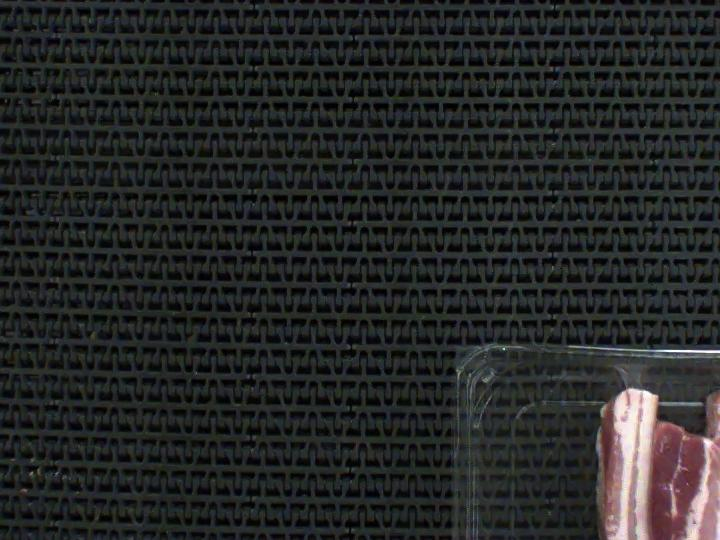packaging-error: (581, 341, 720, 420)
